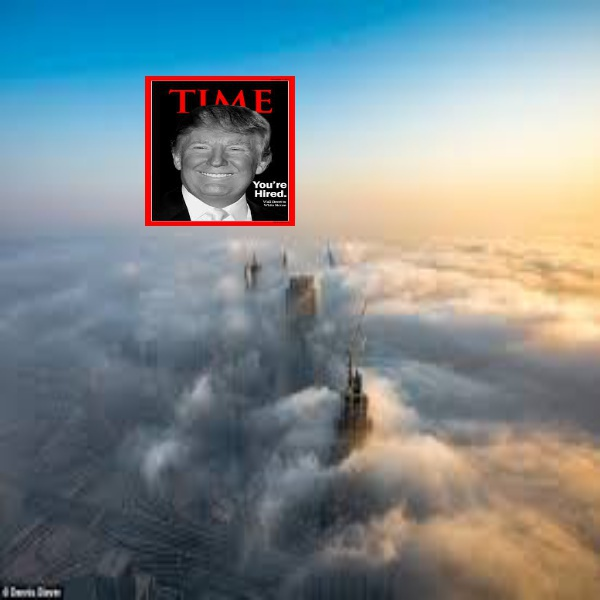time_cover: (140, 66, 299, 225)
